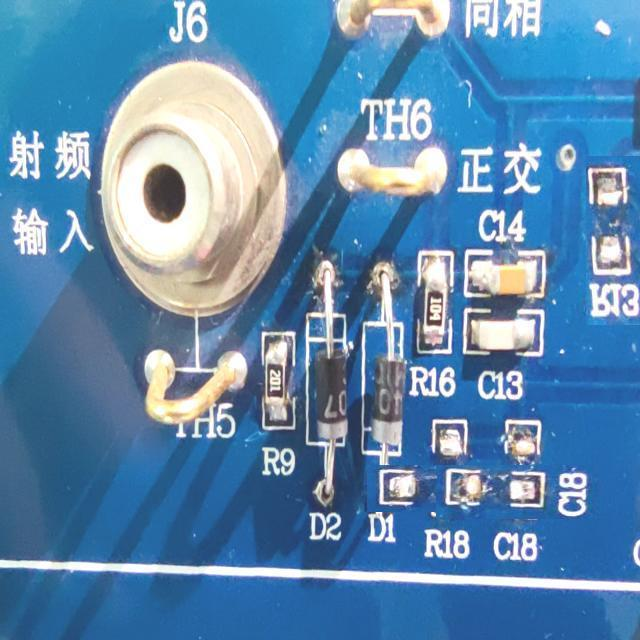miss_welding: (463, 437, 572, 546), (396, 436, 500, 540), (586, 156, 640, 325)
